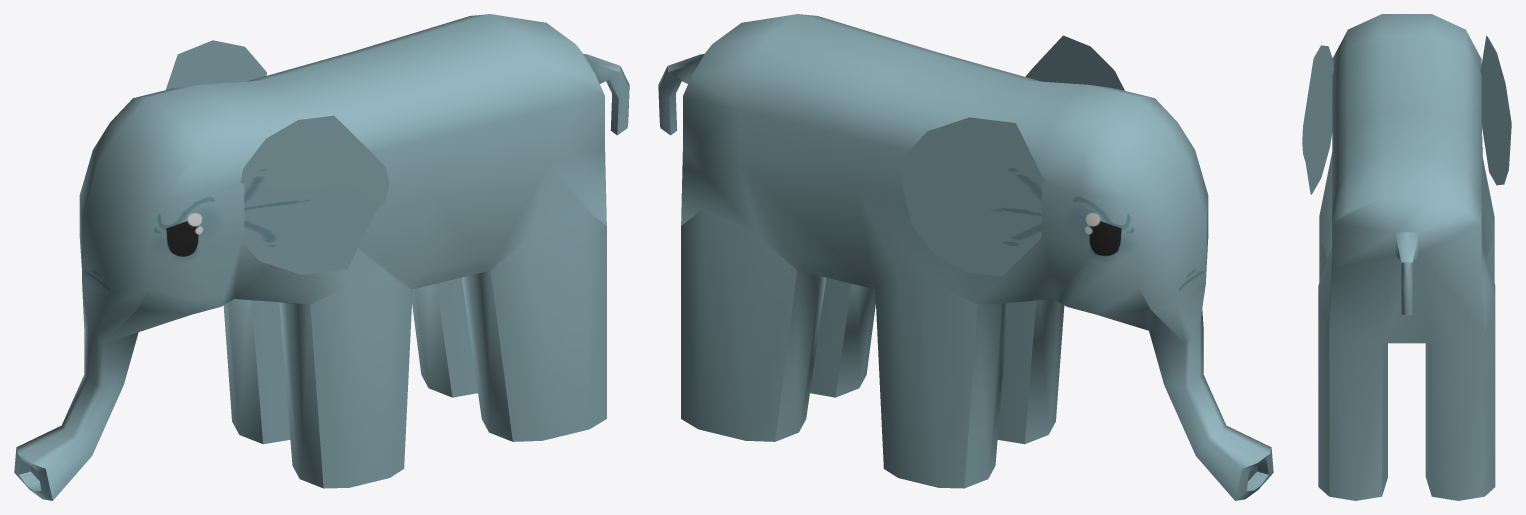
The model's file is Elephant (1).fbx.
The picture shows the model from 3 angles, left to right: view 1: azimuth 30°, elevation 25°; view 2: azimuth 150°, elevation 25°; view 3: azimuth 270°, elevation 25°; orthographic projection. The views are drawn at different scales.
Parts seen in each view (by area): view 1: pCylinder2; view 2: pCylinder2; view 3: pCylinder2.
Boxes of the visible parts, box(x1,y1,x2,y2) form: pCylinder2: box(14, 14, 629, 500); pCylinder2: box(658, 14, 1273, 500); pCylinder2: box(1302, 14, 1511, 500).
Bounding box in the file's own units: 3.98 × 2.38 × 1.4.
